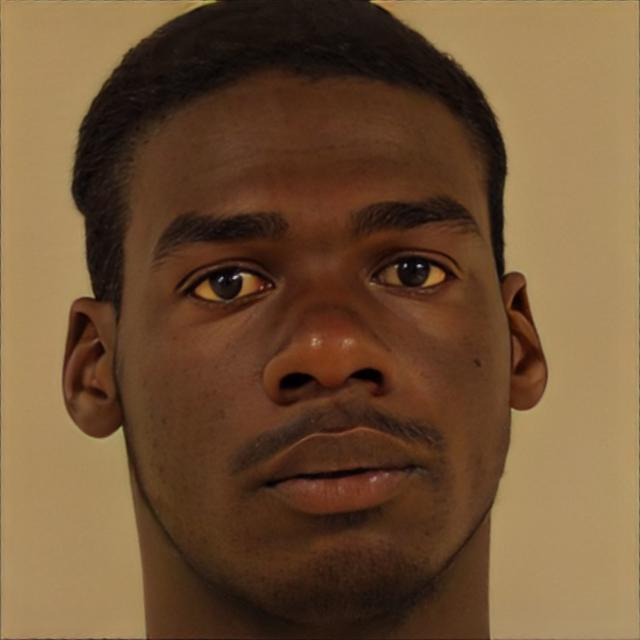sad: (114, 58, 512, 618)
